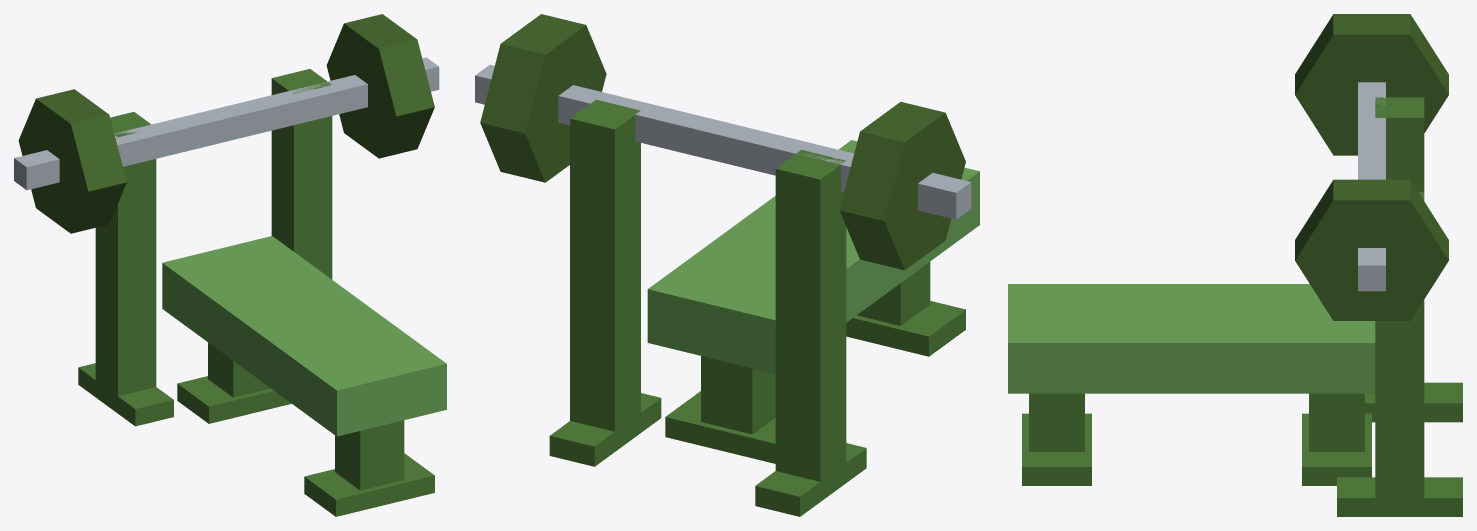
Rendered from bench_press.glb.
3 views of the same model, side by side, from view 1: azimuth 30°, elevation 25°; view 2: azimuth 150°, elevation 25°; view 3: azimuth 270°, elevation 25° (orthographic). The views are drawn at different scales.
Parts seen in each view (by area): view 1: bench_press; view 2: bench_press; view 3: bench_press.
Part boxes in pixels (left/top/right/bottom): bench_press: left=14, top=14, right=446, bottom=516; bench_press: left=475, top=14, right=979, bottom=516; bench_press: left=1008, top=14, right=1462, bottom=516.
Size of the model in its own units: 150 by 111 by 130.
